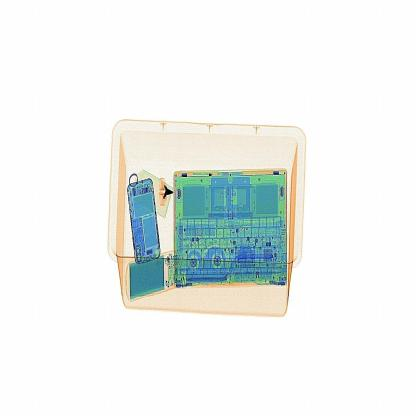gun: (156, 175, 186, 214)
